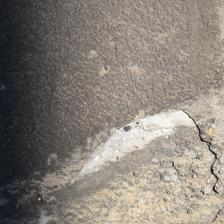Crack: (90, 55, 134, 141)
